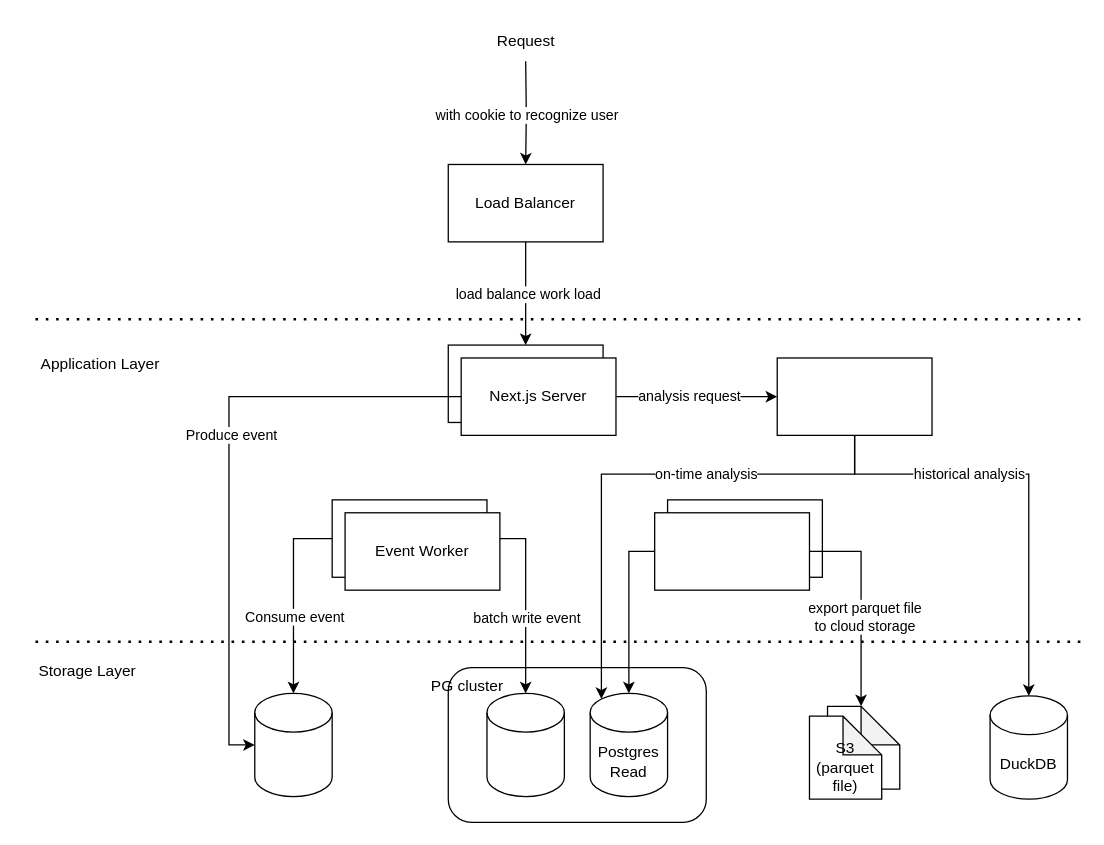
Image size: 1104x845. Some labels were removed from this diagram. The centre of each missing label's shape, as x and y in pixels:
"Analysis Server" belongs at point (854, 396).
"Export Job Worker" belongs at point (731, 550).
"Postgres Write" belongs at point (525, 744).
"Redis" belongs at point (292, 744).
